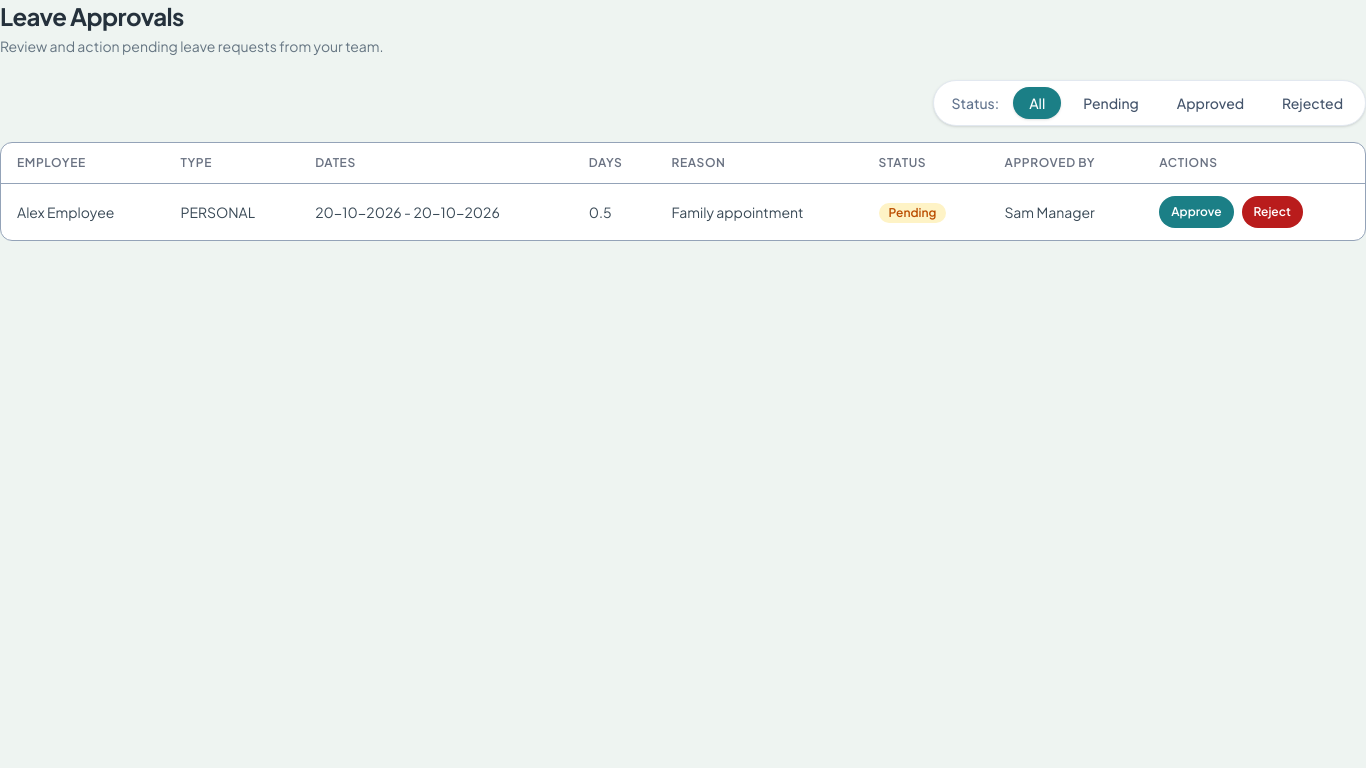
Test: Leave approvals history details › keeps approval actions separate from opening the history popup
Click the button "Approve".
click(1196, 212)  # box [1159, 196, 1234, 228]
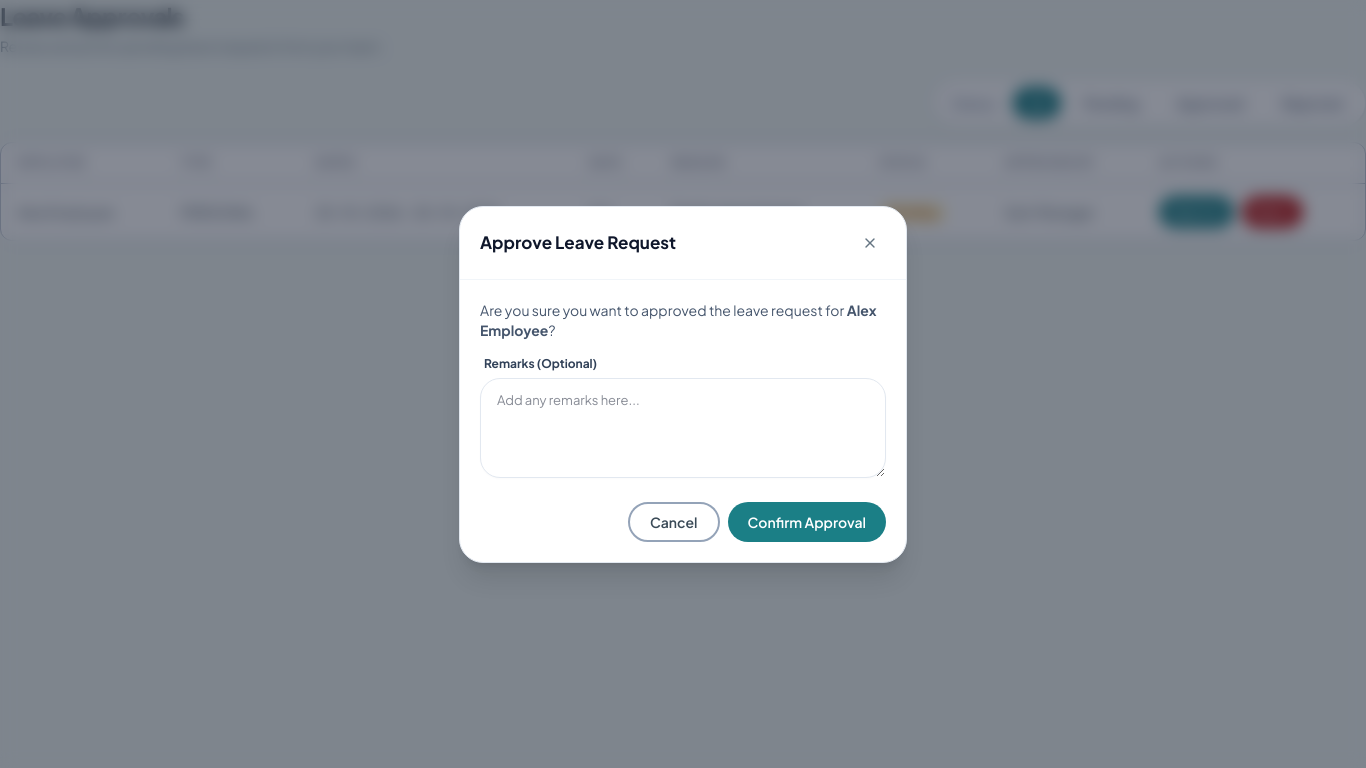
Expected: the dialog "Approve Leave Request" is shown, [459, 206, 907, 562]
